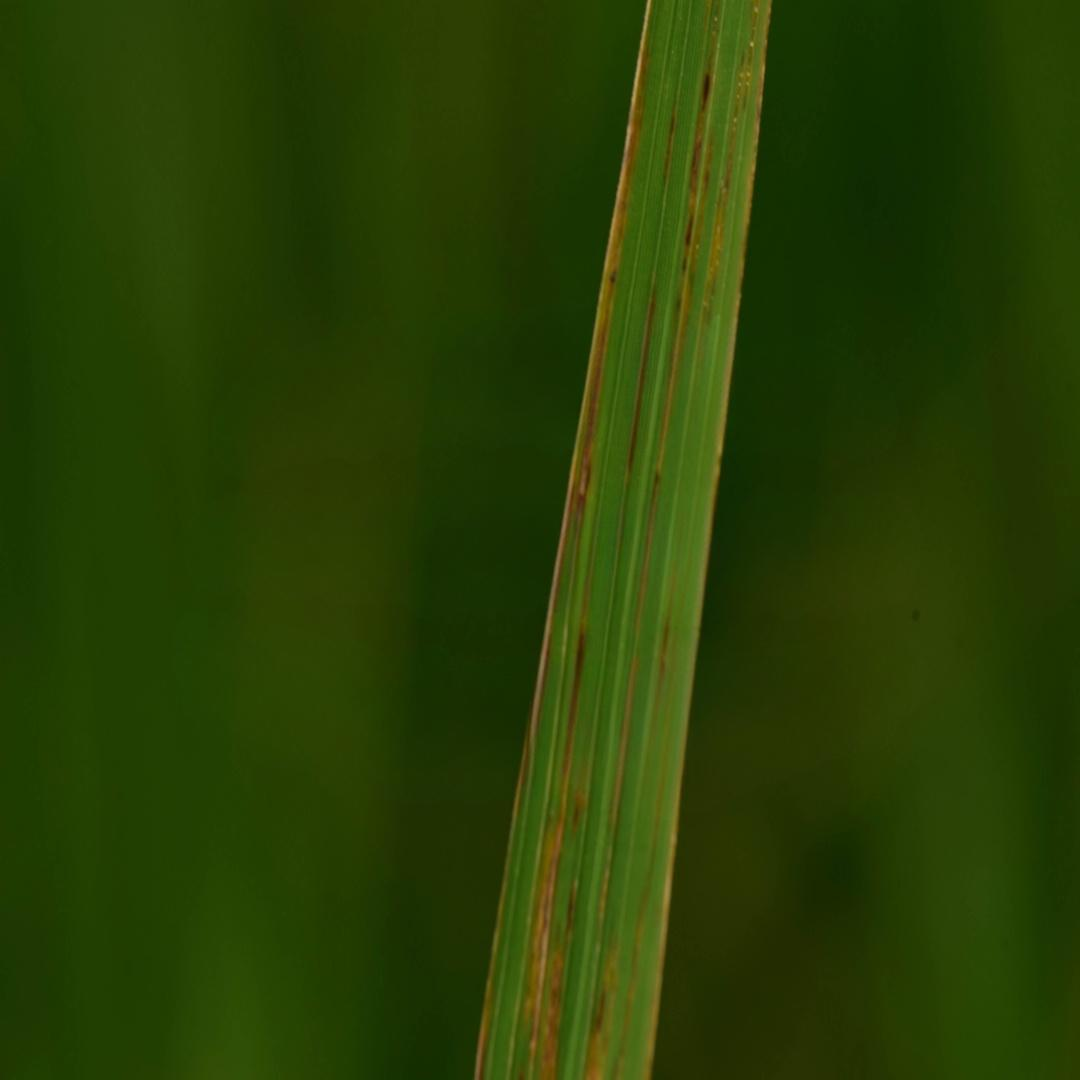BLS: (647, 0, 772, 1079), (512, 0, 651, 814), (634, 0, 720, 631), (522, 515, 596, 1078), (702, 49, 745, 323), (599, 655, 640, 927), (611, 863, 650, 1078), (542, 880, 578, 1079), (476, 855, 507, 1079), (626, 287, 655, 484), (585, 932, 620, 1079), (649, 564, 675, 738), (742, 0, 760, 111), (665, 87, 676, 176), (704, 0, 712, 35)
LEAF: (475, 0, 772, 1079)
